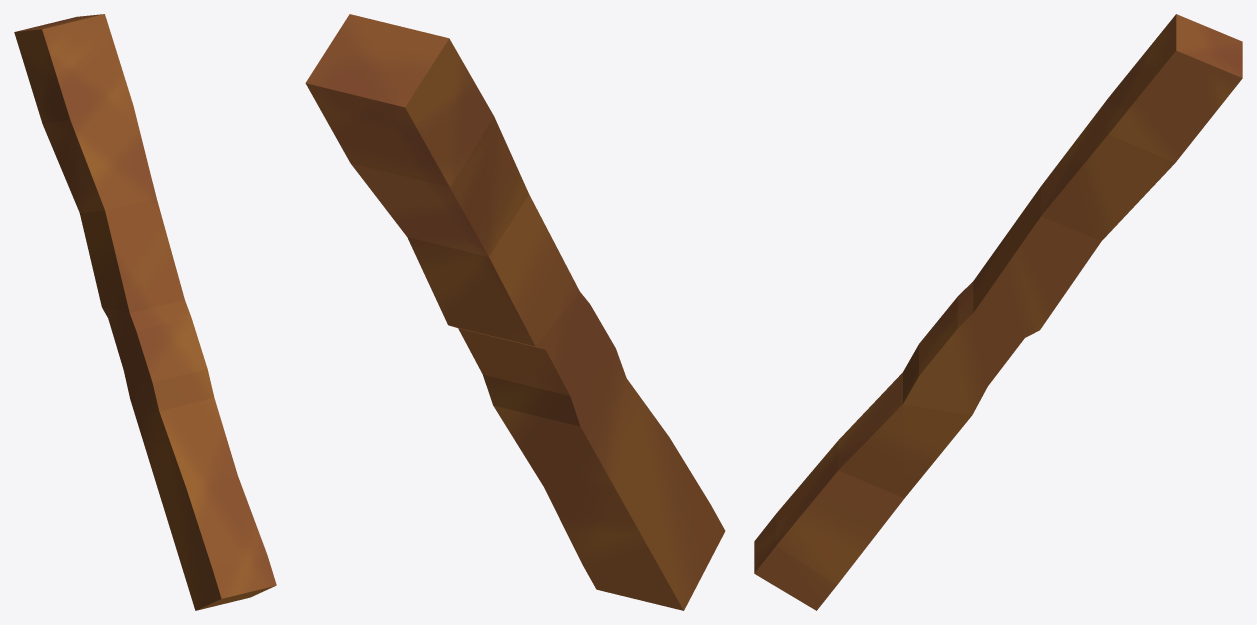
File: RW Pillers 5.fbx
3 views of the same model, side by side, from view 1: azimuth 30°, elevation 25°; view 2: azimuth 150°, elevation 25°; view 3: azimuth 270°, elevation 25° (orthographic). The views are drawn at different scales.
Parts seen in each view (by area): view 1: RW Pillers 5; view 2: RW Pillers 5; view 3: RW Pillers 5.
Part boxes in pixels (x1,y1,x2,y2): RW Pillers 5: (14,14,276,610); RW Pillers 5: (305,14,725,610); RW Pillers 5: (754,14,1242,610).
Size of the model in its own units: 29.23 by 210 by 165.
Materials: 1 (1 with a texture image).
